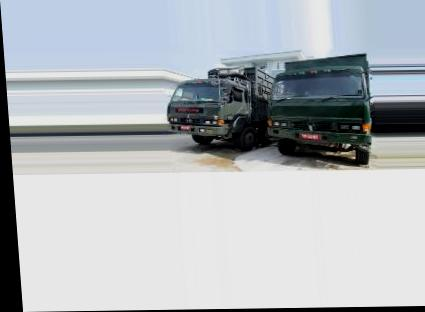License_Plate: (300, 131, 324, 141), (177, 123, 193, 131)
